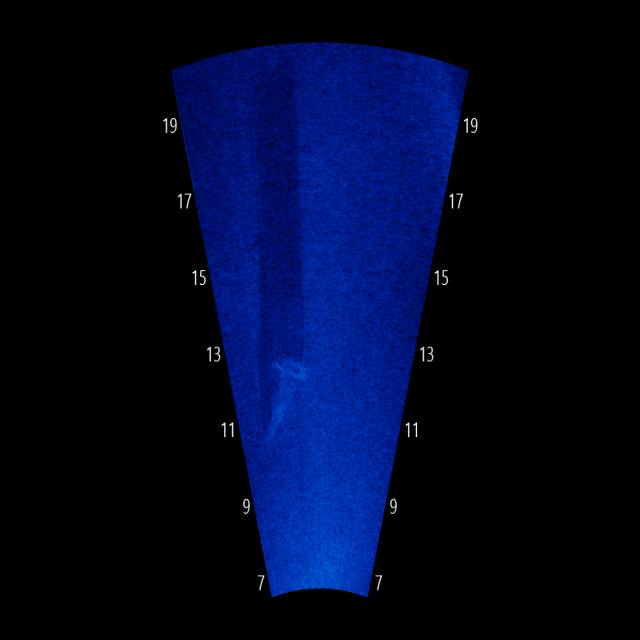circle: (242, 229, 278, 266)
triangle: (266, 353, 308, 451)
